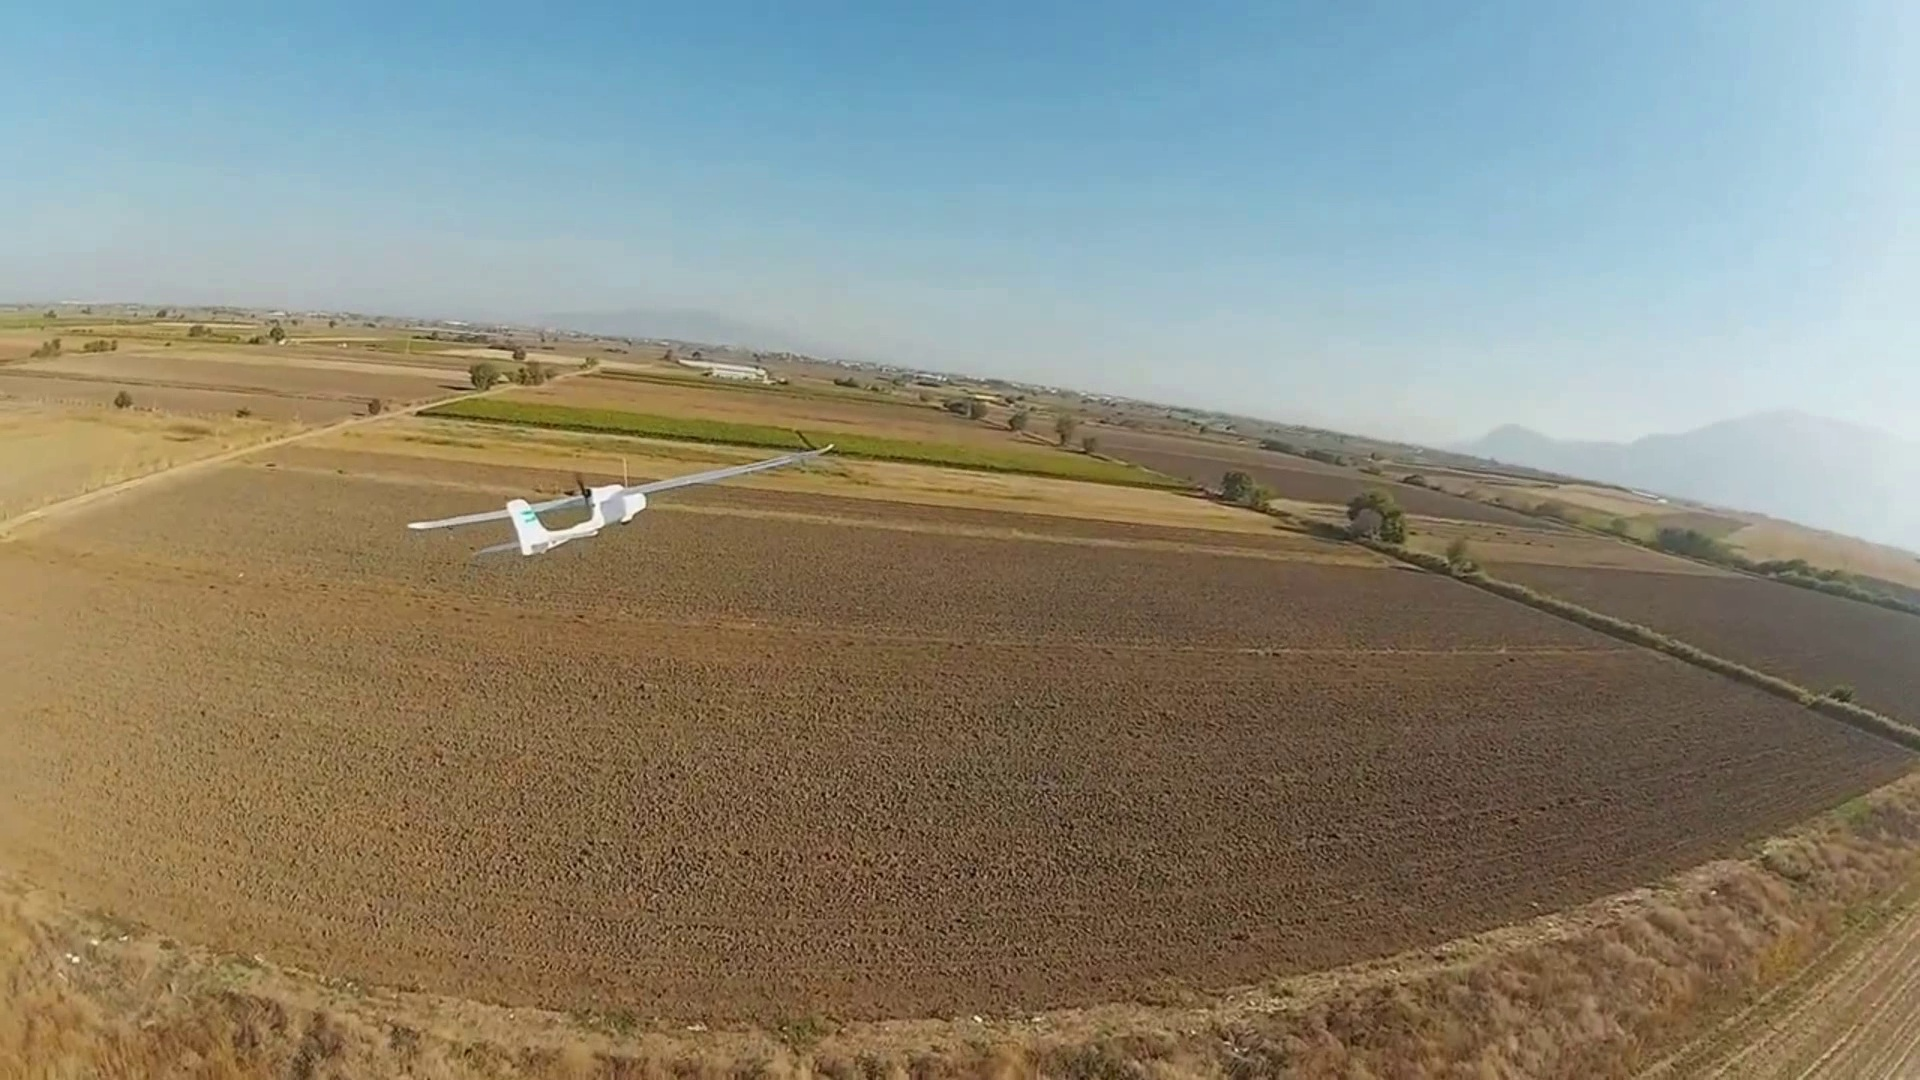airplane: (405, 447, 832, 560)
